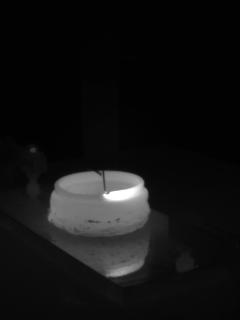tip_wire_left: (86, 165, 107, 194)
tip_wire_right: (103, 163, 120, 194)
